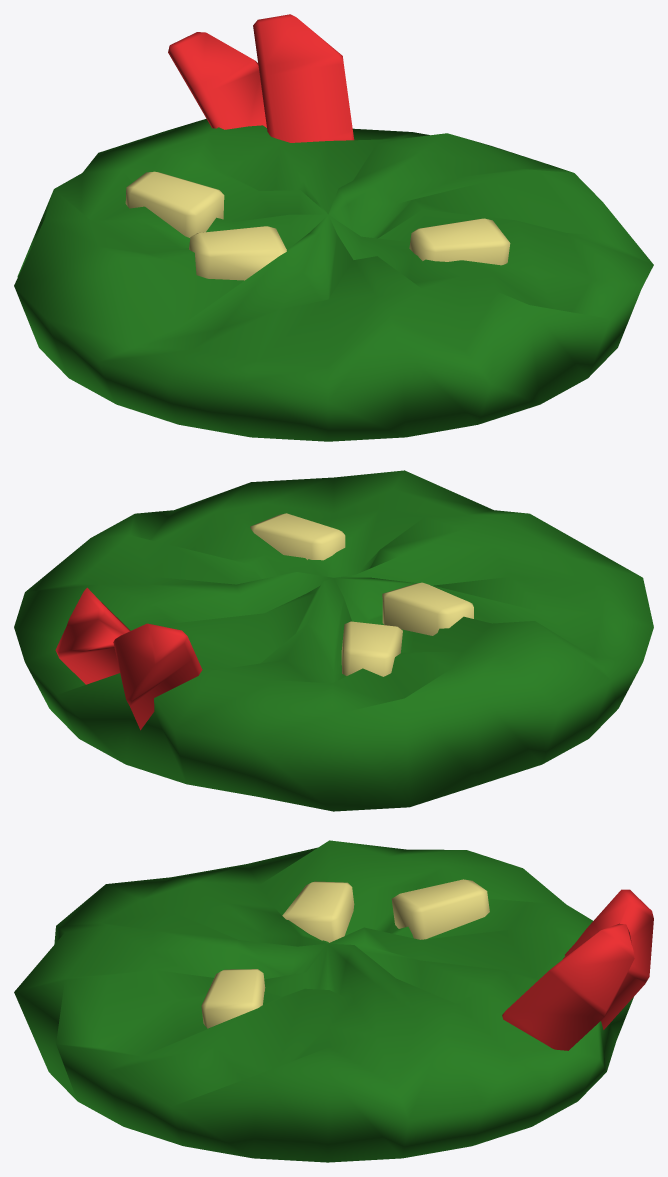
The model's file is salad.fbx.
The picture shows the model from 3 angles, top to bottom: view 1: azimuth 30°, elevation 25°; view 2: azimuth 150°, elevation 25°; view 3: azimuth 270°, elevation 25°; orthographic projection. The views are drawn at different scales.
Visible parts, largest first — view 1: Salad; view 2: Salad; view 3: Salad.
Boxes of the visible parts, x1,y1,x2,y2 form: Salad: (14, 14, 653, 441); Salad: (14, 470, 653, 811); Salad: (14, 840, 653, 1162).
Bounding box in the file's own units: 9.35 × 9.7 × 2.7.
